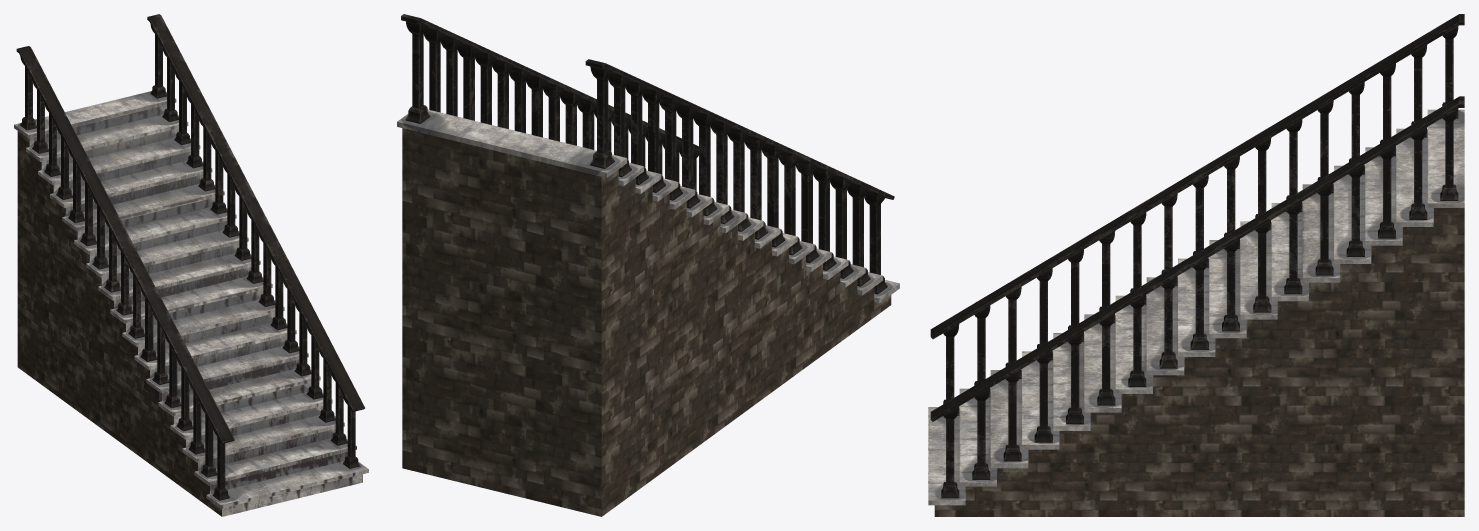
Rendered from Stairs.fbx.
The picture shows the model from 3 angles, left to right: view 1: azimuth 30°, elevation 25°; view 2: azimuth 150°, elevation 25°; view 3: azimuth 270°, elevation 25°; orthographic projection. The views are drawn at different scales.
Parts seen in each view (by area): view 1: Stairs Main, Double Handrail; view 2: Stairs Main, Double Handrail; view 3: Stairs Main, Double Handrail.
Part boxes in pixels (x1,y1,x2,y2): Stairs Main: (14, 91, 368, 516); Double Handrail: (16, 14, 364, 500); Stairs Main: (397, 109, 899, 516); Double Handrail: (401, 14, 894, 294); Stairs Main: (928, 109, 1464, 516); Double Handrail: (930, 14, 1464, 498).
Bounding box in the file's own units: 207 × 425 × 500.
